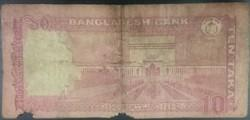10 taka: (3, 6, 246, 115)
